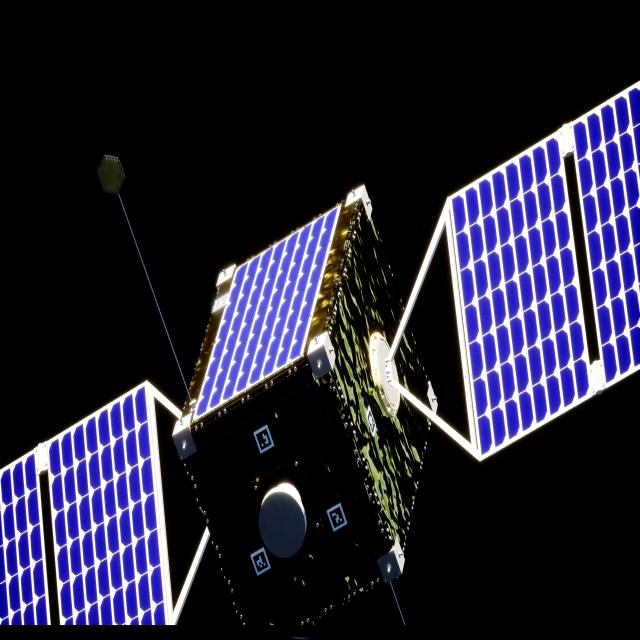medium_debris: (0, 83, 640, 639)
